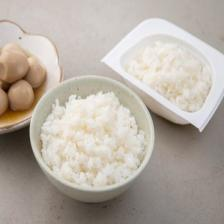rice: (40, 90, 147, 187), (124, 38, 212, 113)
